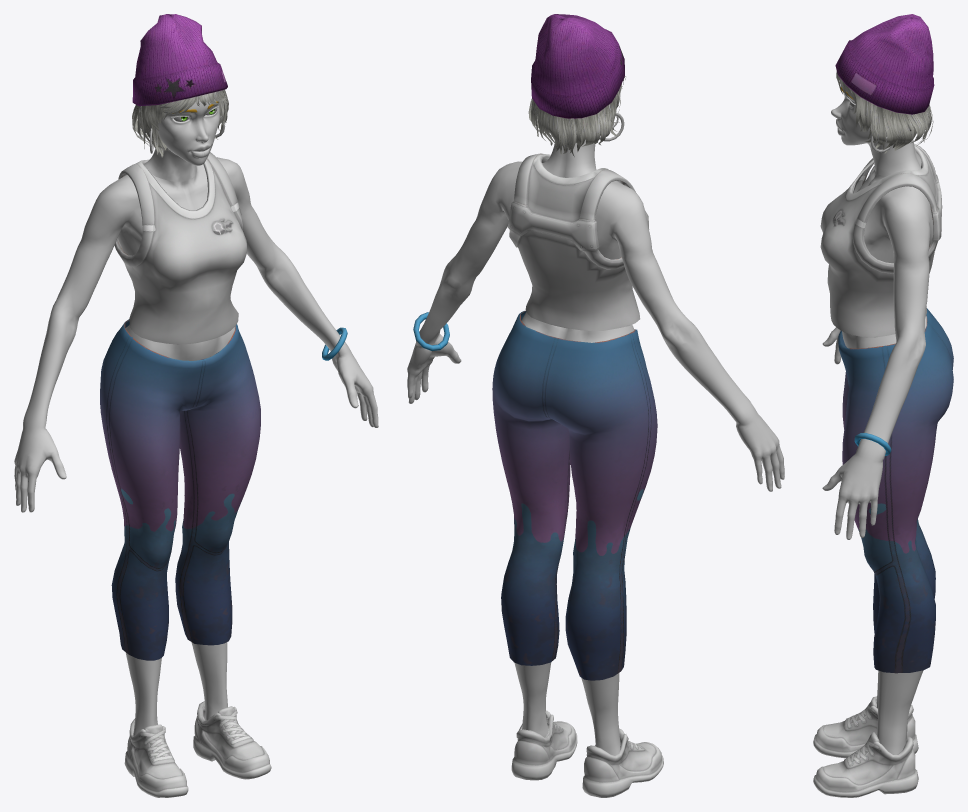
File: Character 1.fbx
3 renders of one model, left to right at view 1: azimuth 30°, elevation 25°; view 2: azimuth 150°, elevation 25°; view 3: azimuth 270°, elevation 25°, orthographic. The views are drawn at different scales.
Parts seen in each view (by area): view 1: leggings 2, body.002, top 6, shoes 9, cap 2, legs, head, w hair 14; view 2: leggings 2, body.002, top 6, cap 2, shoes 9, legs, w hair 14, head; view 3: leggings 2, body.002, top 6, cap 2, shoes 9, legs, w hair 14, head, bracelet 6.
Part boxes in pixels (x1=…): leggings 2: x1=100, y1=319, x2=260, y2=660; body.002: x1=14, y1=157, x2=378, y2=512; top 6: x1=114, y1=152, x2=246, y2=344; shoes 9: x1=124, y1=701, x2=271, y2=797; cap 2: x1=132, y1=14, x2=227, y2=106; legs: x1=125, y1=324, x2=235, y2=735; head: x1=139, y1=99, x2=219, y2=181; w hair 14: x1=132, y1=89, x2=228, y2=157; leggings 2: x1=492, y1=310, x2=657, y2=680; body.002: x1=407, y1=161, x2=784, y2=491; top 6: x1=507, y1=153, x2=649, y2=331; cap 2: x1=531, y1=14, x2=624, y2=118; shoes 9: x1=511, y1=710, x2=663, y2=797; legs: x1=514, y1=312, x2=634, y2=755; w hair 14: x1=528, y1=76, x2=625, y2=156; head: x1=542, y1=94, x2=620, y2=177; leggings 2: x1=838, y1=308, x2=953, y2=673; body.002: x1=822, y1=166, x2=933, y2=539; top 6: x1=820, y1=143, x2=942, y2=337; cap 2: x1=835, y1=14, x2=934, y2=114; shoes 9: x1=813, y1=696, x2=918, y2=797; legs: x1=842, y1=316, x2=926, y2=754; w hair 14: x1=836, y1=71, x2=933, y2=153; head: x1=831, y1=84, x2=921, y2=176; bracelet 6: x1=854, y1=433, x2=891, y2=455.
Size of the model in its own units: 96.47 by 194 by 32.83.
